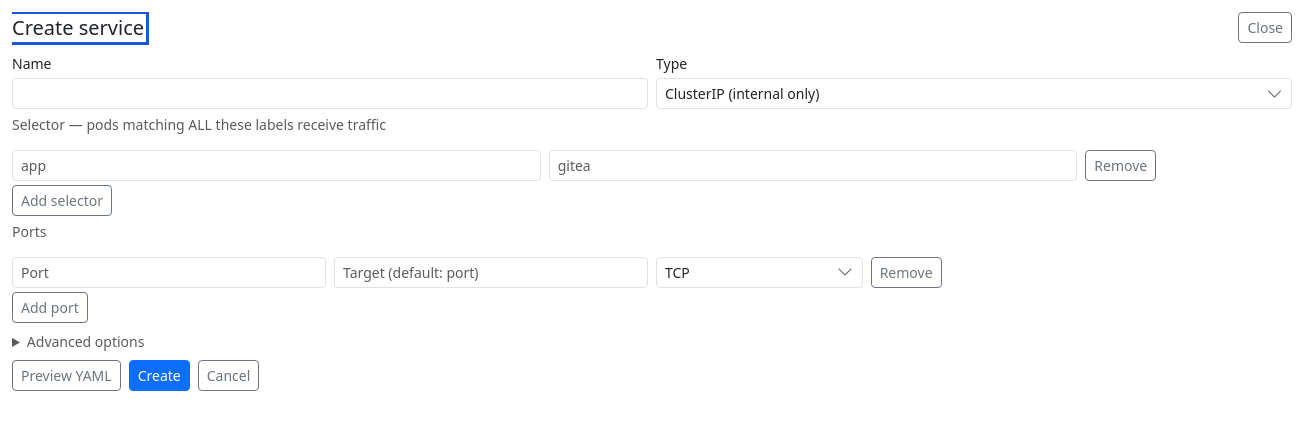
it: ServiceCreate — validation › rejects an invalid target port name
Type "web" into the field with id "svc-name".
click(330, 94); type("web")  # box [12,78,648,109]
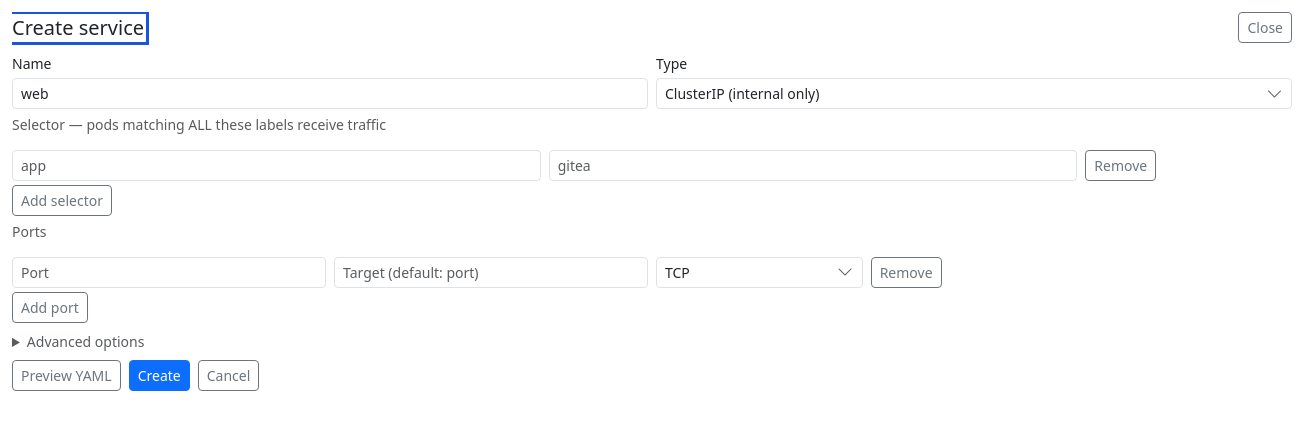
Type "80" into the number field with id "svc-port-0".
click(169, 272); type("80")  # box [12,257,326,288]
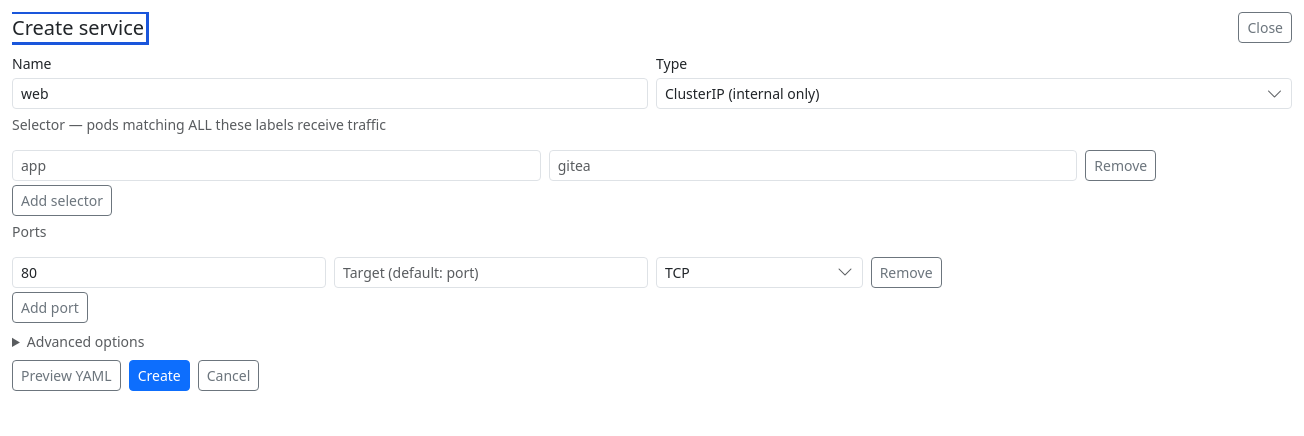
Type "1bad-name" into the field with id "svc-target-0".
click(491, 272); type("1bad-name")  # box [334,257,648,288]
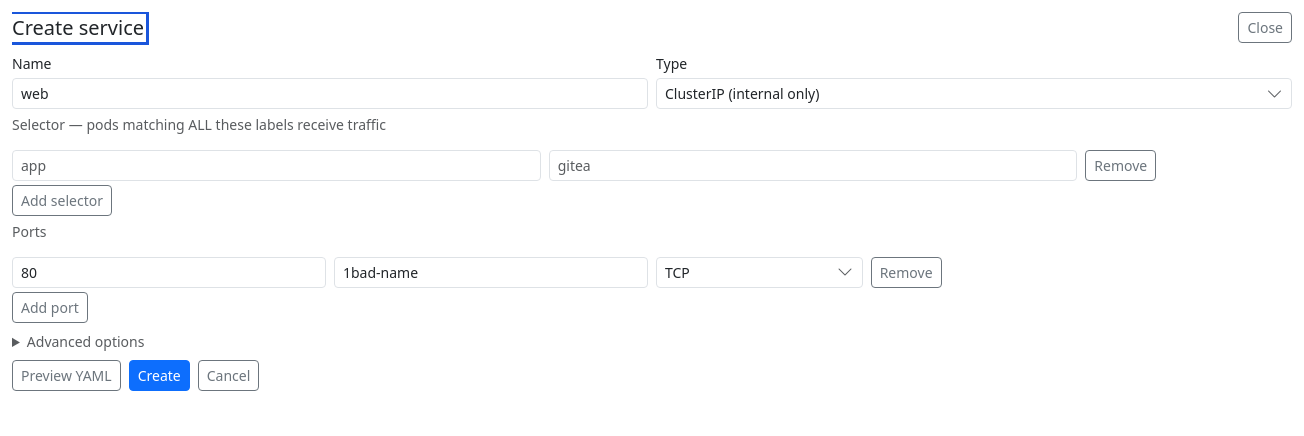
Click the button "Create".
click(159, 375)  # box [129,360,190,391]
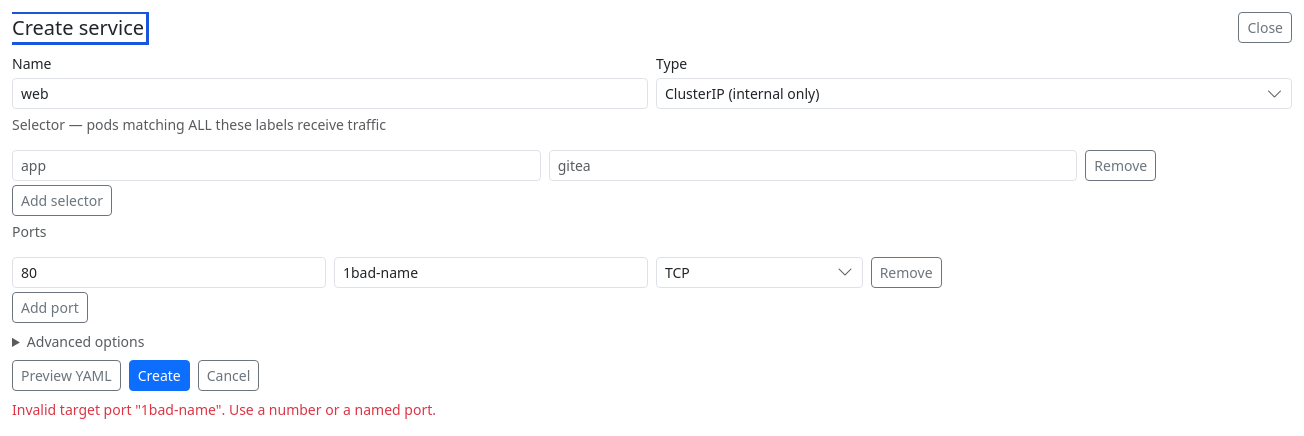
Result: the message "Invalid target port \"1bad-name\". Use a number or a named port." shows "Invalid target port \"1bad-name\"" at [12,400,436,419]
